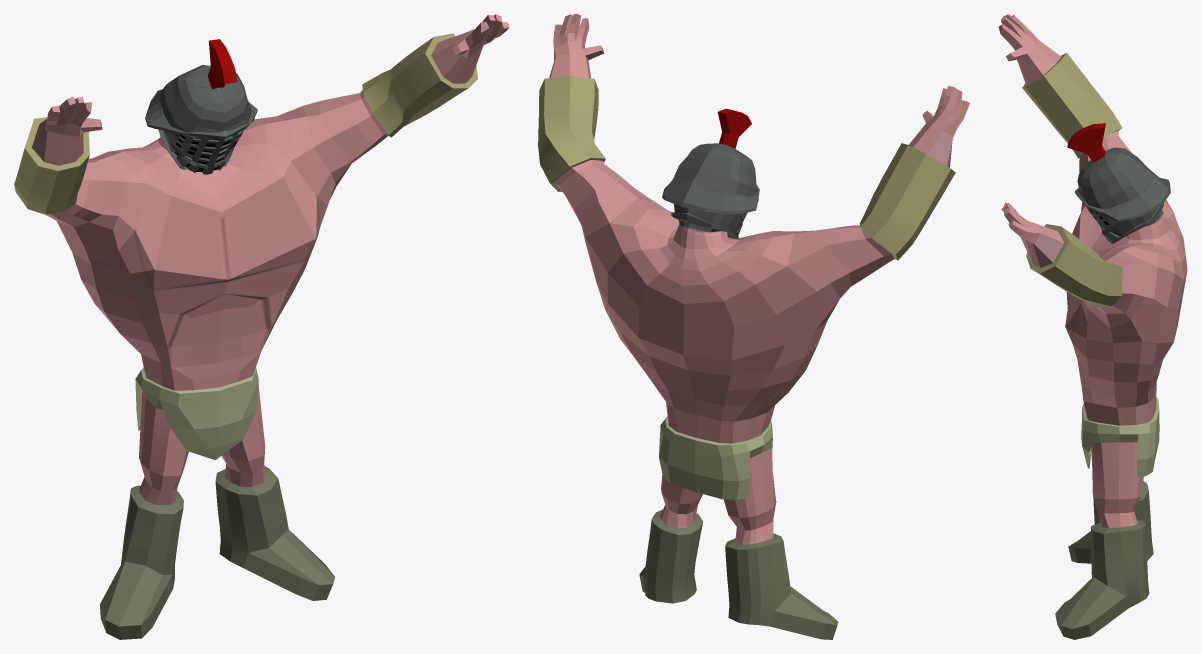
Rendered from GladiatorCelebracion_000547.obj.
The picture shows the model from 3 angles, left to right: view 1: azimuth 30°, elevation 25°; view 2: azimuth 150°, elevation 25°; view 3: azimuth 270°, elevation 25°; orthographic projection. The views are drawn at different scales.
Visible parts, largest first — view 1: Gadiador_Gladiador_H; view 2: Gadiador_Gladiador_H; view 3: Gadiador_Gladiador_H.
Boxes of the visible parts, <box> form: Gadiador_Gladiador_H: <box>14,14,509,639</box>; Gadiador_Gladiador_H: <box>538,14,969,639</box>; Gadiador_Gladiador_H: <box>998,14,1187,639</box>.
Size of the model in its own units: 6.43 by 7.97 by 2.71.
1 material, 1 textured.
